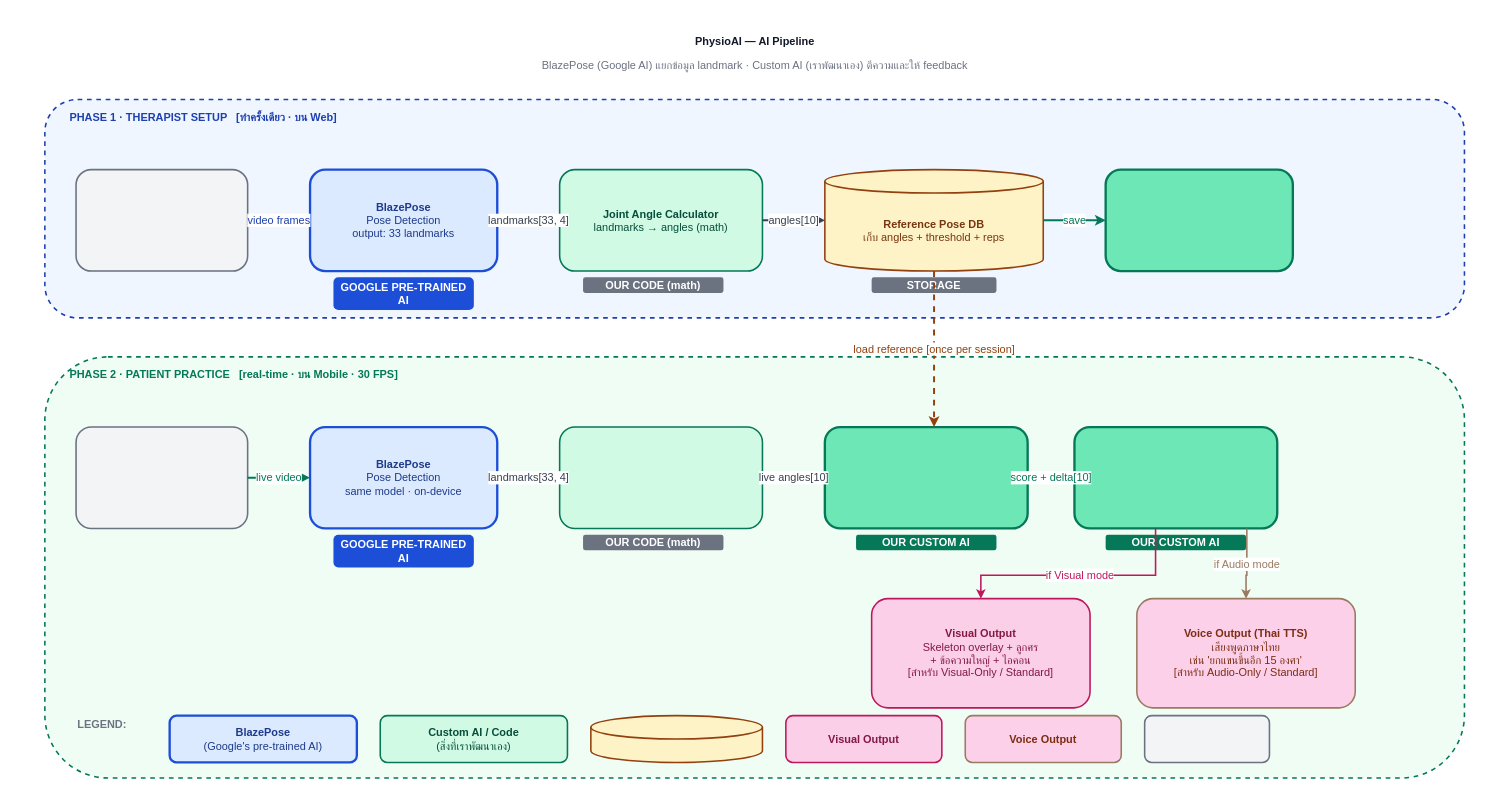
Some shapes in this 1509 by 807 pixel diagram are drawn without their labels. Here are the shapes that lost their labels. From the top down, the centre of each, then its label:
At point 161,219: "Therapist ถ่ายวิดีโอสาธิตท่า".
At point 1199,220: "Setup Complete พร้อมส่งให้ผู้ป่วยฝึก".
At point 161,477: "Patient ทำท่าหน้ากล้อง".
At point 660,477: "Joint Angle Calculator landmarks → live angles".
At point 925,477: "Pose Comparator CUSTOM AI เทียบ live vs reference คำนวณ score + delta".
At point 1175,477: "Feedback Generator CUSTOM AI rule-based + i18n templates เลือก channel ตาม mode".
At point 676,738: "Database (เก็บ reference)".
At point 1206,738: "Actor".
